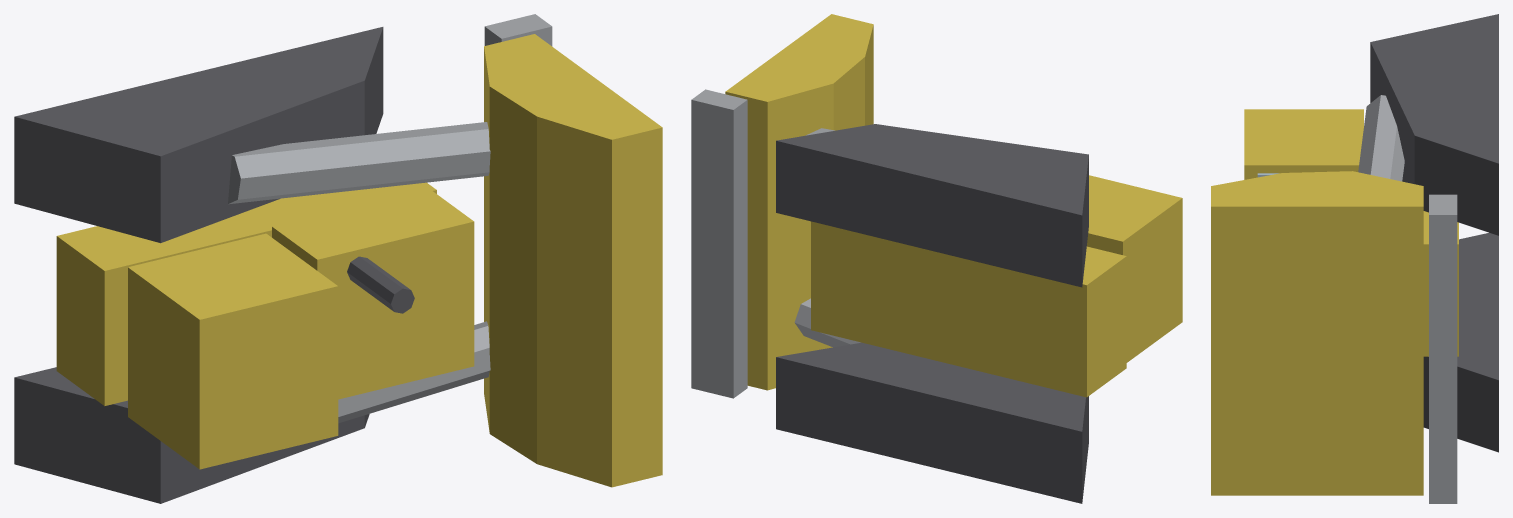
3 views of the same model, side by side, from view 1: azimuth 30°, elevation 25°; view 2: azimuth 150°, elevation 25°; view 3: azimuth 270°, elevation 25° (orthographic). The views are drawn at different scales.
Parts seen in each view (by area): view 1: part6, part1, part4, part3, part0, part2, part8, part9, part10, part7; view 2: part1, part0, part2, part6, part7, part4, part9; view 3: part6, part1, part2, part7, part4, part8, part0.
Boxes of the visible parts, left/top/right/bottom form: part6: left=484, top=34, right=662, bottom=487; part1: left=14, top=27, right=383, bottom=243; part4: left=128, top=233, right=338, bottom=469; part3: left=272, top=188, right=474, bottom=399; part0: left=56, top=182, right=436, bottom=405; part2: left=14, top=367, right=369, bottom=503; part8: left=228, top=122, right=490, bottom=204; part9: left=338, top=321, right=490, bottom=423; part10: left=347, top=256, right=414, bottom=313; part7: left=484, top=14, right=552, bottom=46; part1: left=776, top=124, right=1088, bottom=287; part0: left=811, top=221, right=1126, bottom=397; part2: left=776, top=342, right=1088, bottom=503; part6: left=725, top=14, right=873, bottom=390; part7: left=691, top=89, right=747, bottom=398; part4: left=1087, top=175, right=1182, bottom=362; part9: left=794, top=298, right=860, bottom=347; part6: left=1211, top=171, right=1423, bottom=495; part1: left=1370, top=14, right=1498, bottom=235; part2: left=1423, top=232, right=1498, bottom=452; part7: left=1429, top=194, right=1457, bottom=503; part4: left=1244, top=109, right=1363, bottom=179; part8: left=1358, top=95, right=1404, bottom=181; part0: left=1423, top=211, right=1458, bottom=356.
Bounding box in the file's own units: 5.38 × 3.6 × 3.25.
